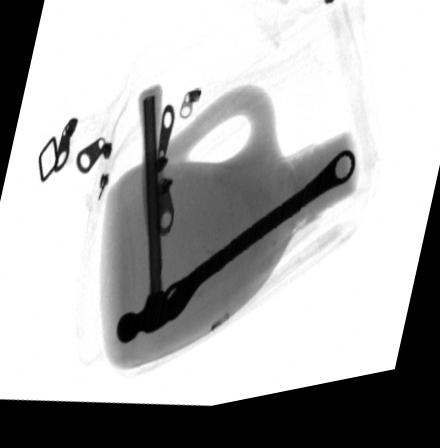Hammer: (115, 92, 201, 350)
Wrench: (161, 164, 356, 320)
